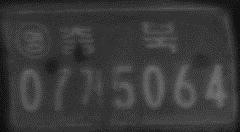0: (17, 66, 44, 115), (140, 62, 166, 111)
4: (202, 62, 229, 109)
5: (109, 62, 136, 111)
6: (172, 62, 198, 111)
7: (46, 64, 72, 112)
거: (78, 65, 107, 108)
영: (12, 19, 53, 61)
충북_D: (58, 19, 179, 58)
